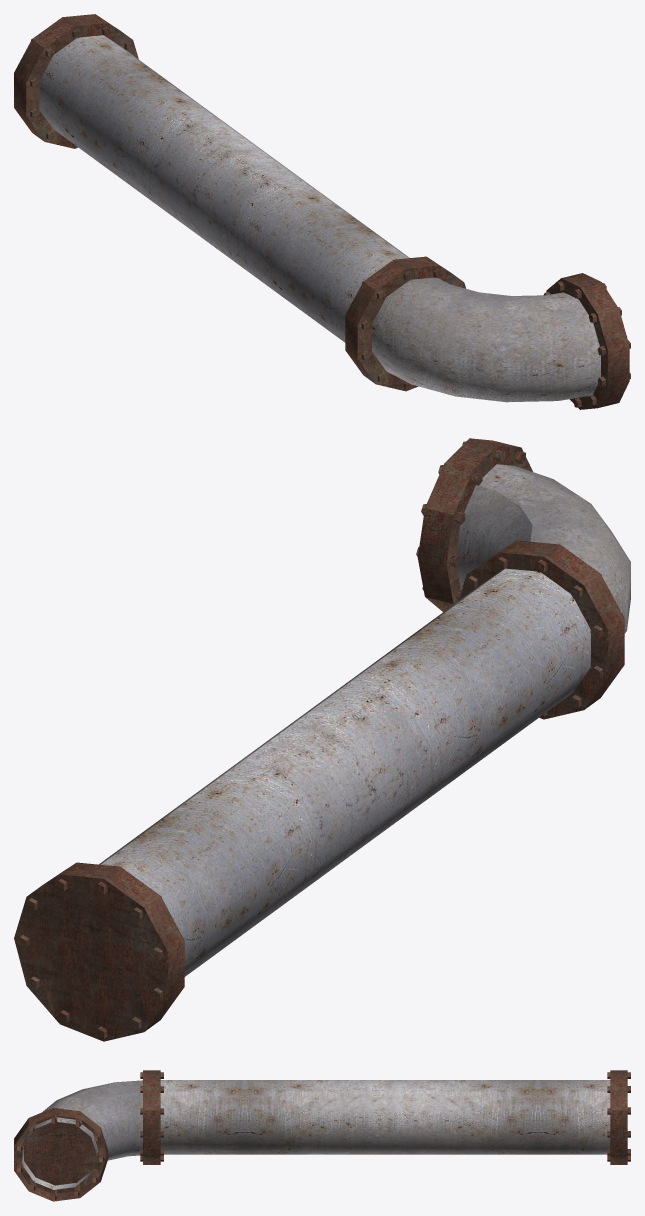
Rendered from steigrohr_2.obj.
The picture shows the model from 3 angles, top to bottom: view 1: azimuth 30°, elevation 25°; view 2: azimuth 150°, elevation 25°; view 3: azimuth 270°, elevation 25°; orthographic projection. The views are drawn at different scales.
Visible parts, largest first — view 1: MDL_Cylin1; view 2: MDL_Cylin1; view 3: MDL_Cylin1.
Boxes of the visible parts, x1,y1,x2,y2 form: MDL_Cylin1: [14, 14, 630, 409]; MDL_Cylin1: [14, 438, 630, 1041]; MDL_Cylin1: [14, 1070, 630, 1201].
Bounding box in the file's own units: 2.91 × 1.87 × 11.98.
2 materials, 2 textured.
